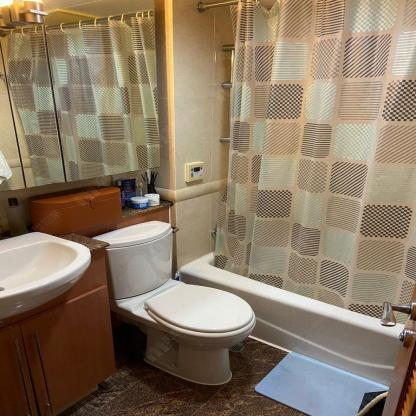Bathtub: (178, 250, 411, 387)
Toilet: (95, 219, 258, 383)
Toilet Sink: (0, 231, 93, 318)
